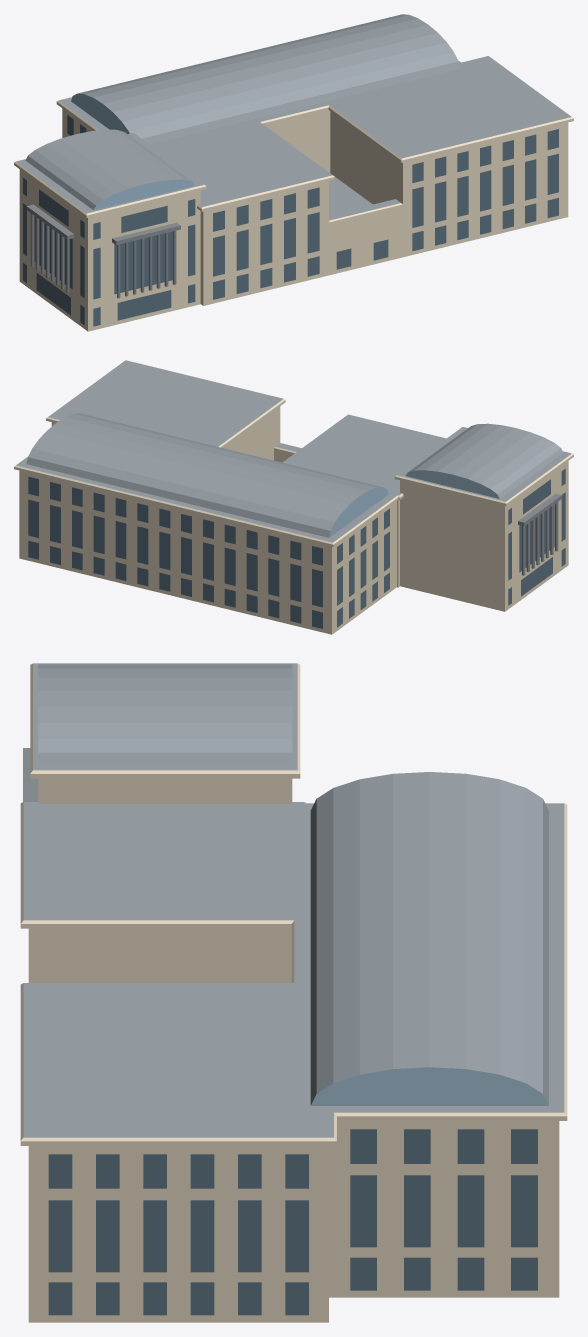
Rendered from jax-main-library.glb.
3 views of the same model, one above another, from view 1: azimuth 30°, elevation 25°; view 2: azimuth 150°, elevation 25°; view 3: azimuth 270°, elevation 25° (orthographic). The views are drawn at different scales.
Parts seen in each view (by area): view 1: Jacksonville Main Library; view 2: Jacksonville Main Library; view 3: Jacksonville Main Library.
Boxes of the visible parts, bbox=[...] form: Jacksonville Main Library: bbox=[14, 14, 573, 331]; Jacksonville Main Library: bbox=[14, 360, 573, 634]; Jacksonville Main Library: bbox=[20, 663, 567, 1322].
Bounding box in the file's own units: 132 × 34.6 × 68.8.
